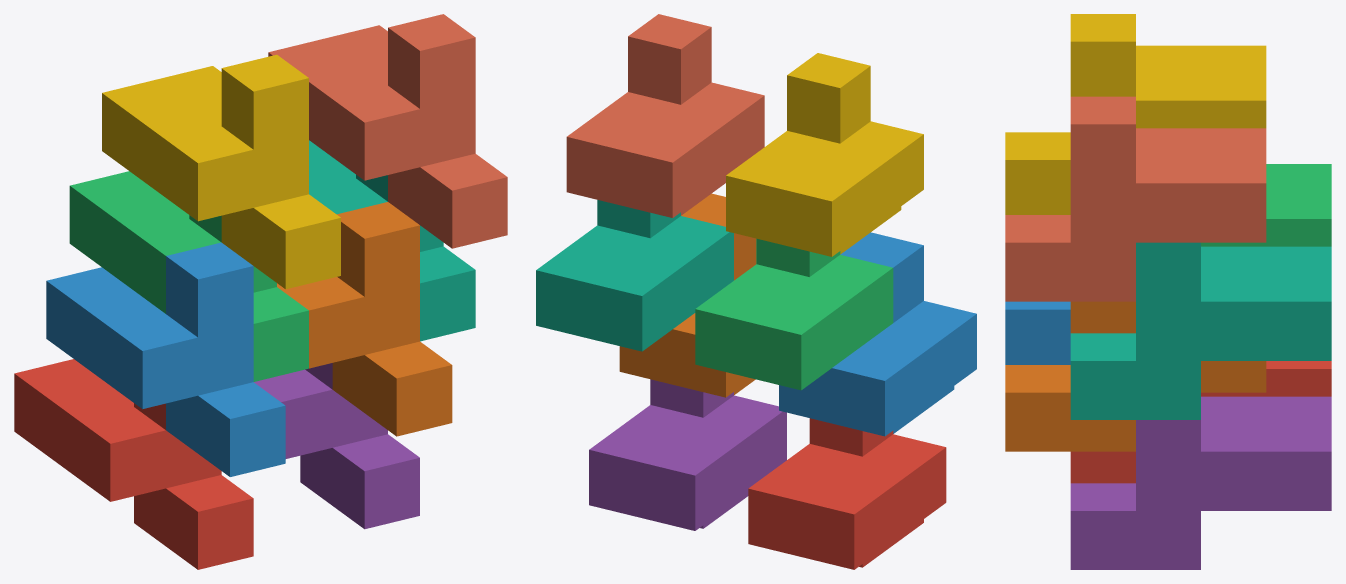
The model's file is tiling.obj.
3 views of the same model, side by side, from view 1: azimuth 30°, elevation 25°; view 2: azimuth 150°, elevation 25°; view 3: azimuth 270°, elevation 25° (orthographic). The views are drawn at different scales.
Parts seen in each view (by area): view 1: copy_1_domain_4, copy_1_domain_2, copy_1_domain_8, copy_1_domain_1, copy_1_domain_6, copy_1_domain_3, copy_1_domain_5, copy_1_domain_7; view 2: copy_1_domain_4, copy_1_domain_8, copy_1_domain_1, copy_1_domain_3, copy_1_domain_5, copy_1_domain_7, copy_1_domain_2, copy_1_domain_6; view 3: copy_1_domain_8, copy_1_domain_7, copy_1_domain_5, copy_1_domain_4, copy_1_domain_6, copy_1_domain_3, copy_1_domain_1, copy_1_domain_2.
Boxes of the visible parts, x1,y1,x2,y2 form: copy_1_domain_4: (102, 54, 340, 289); copy_1_domain_2: (46, 242, 285, 476); copy_1_domain_8: (268, 14, 507, 248); copy_1_domain_1: (14, 359, 253, 569); copy_1_domain_6: (277, 202, 452, 436); copy_1_domain_3: (69, 171, 308, 381); copy_1_domain_5: (254, 363, 419, 529); copy_1_domain_7: (309, 140, 475, 341); copy_1_domain_4: (726, 53, 923, 256); copy_1_domain_8: (566, 14, 764, 217); copy_1_domain_1: (748, 418, 946, 569); copy_1_domain_3: (695, 238, 893, 390); copy_1_domain_5: (589, 379, 786, 530); copy_1_domain_7: (536, 200, 733, 351); copy_1_domain_2: (779, 232, 976, 436); copy_1_domain_6: (619, 193, 756, 397); copy_1_domain_8: (1005, 96, 1266, 301); copy_1_domain_7: (1070, 242, 1331, 419); copy_1_domain_5: (1070, 396, 1331, 569); copy_1_domain_4: (1005, 14, 1266, 214); copy_1_domain_6: (1005, 301, 1266, 451); copy_1_domain_3: (1201, 164, 1331, 246); copy_1_domain_1: (1070, 361, 1331, 483); copy_1_domain_2: (1005, 301, 1070, 364).
Bounding box in the file's own units: 6 × 8 × 5.
